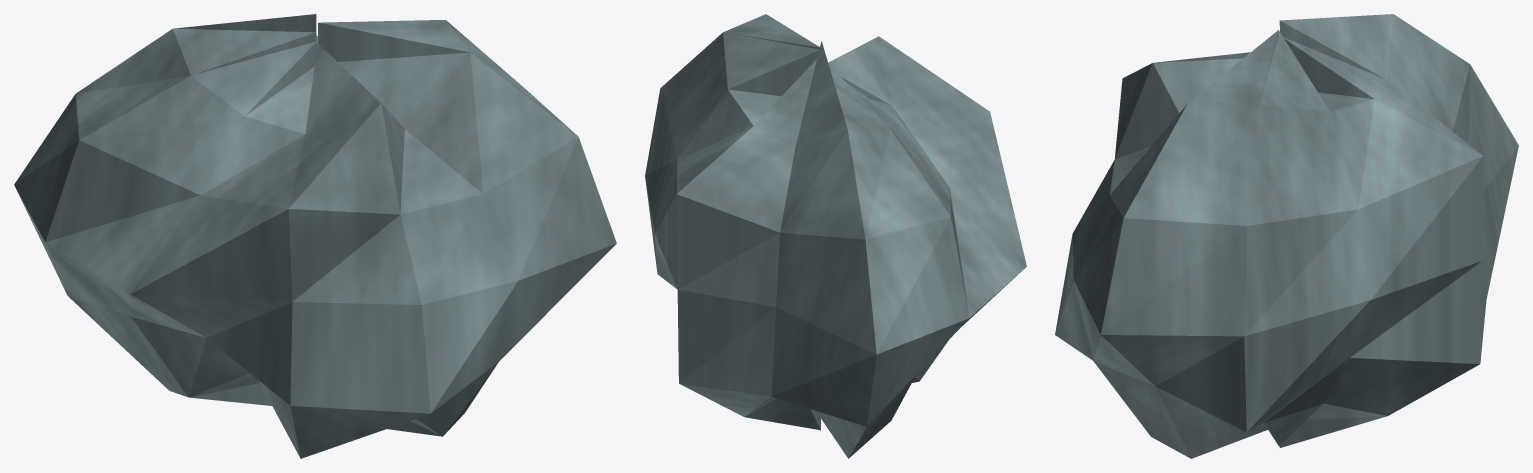
Rendered from coastal_rock_01.glb.
The picture shows the model from 3 angles, left to right: view 1: azimuth 30°, elevation 25°; view 2: azimuth 150°, elevation 25°; view 3: azimuth 270°, elevation 25°; orthographic projection. The views are drawn at different scales.
Parts seen in each view (by area): view 1: rock; view 2: rock; view 3: rock.
Part boxes in pixels (box(x1,y1,x2,y2)): rock: box(14, 14, 616, 458); rock: box(645, 14, 1026, 458); rock: box(1055, 14, 1518, 458).
Size of the model in its own units: 7.61 by 7.28 by 7.17.
Materials: 1 (1 with a texture image).
